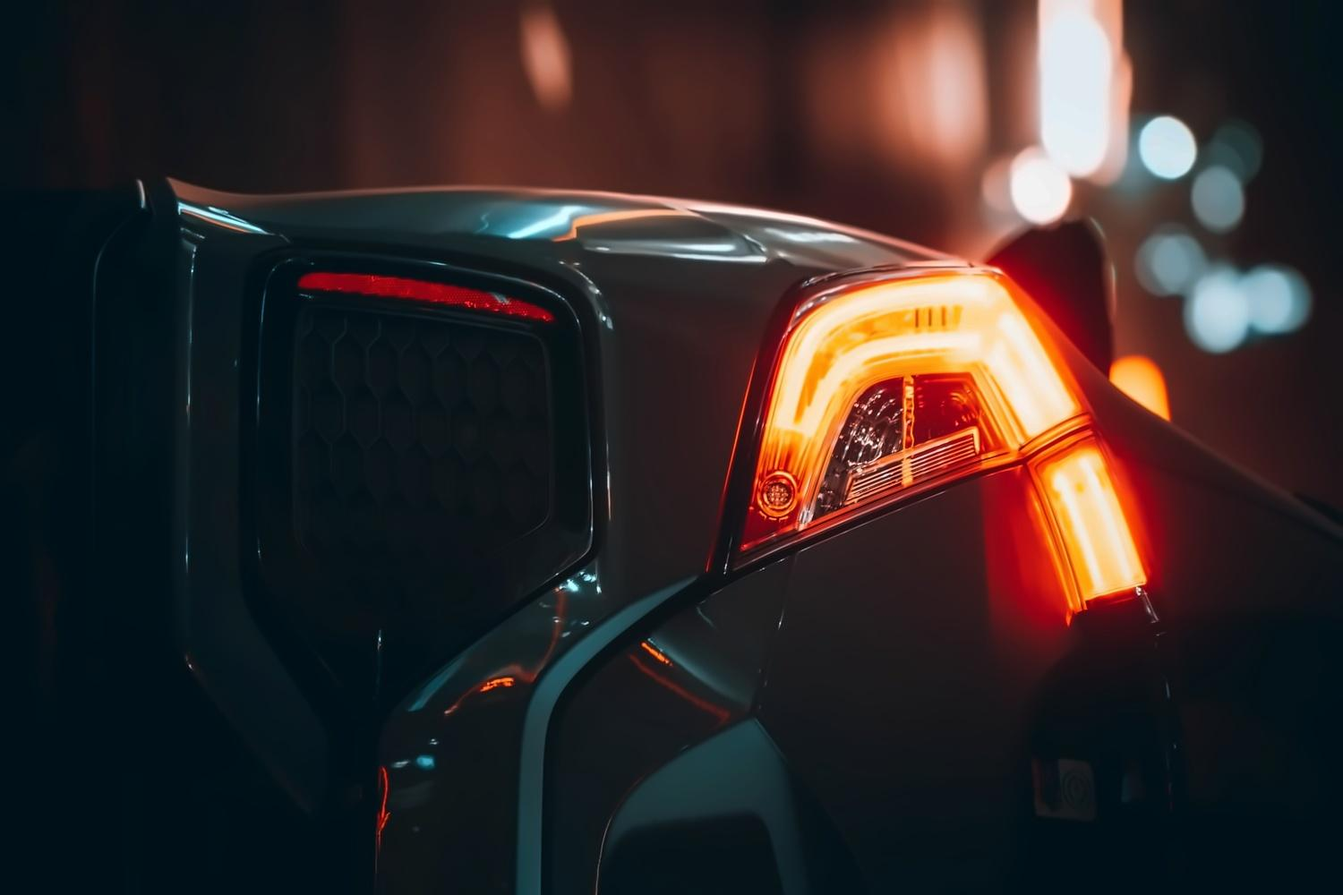Car boot: (511, 403, 1343, 895)
Rear bumper: (36, 105, 800, 771)
Rear light - -L-: (702, 227, 1205, 695)
